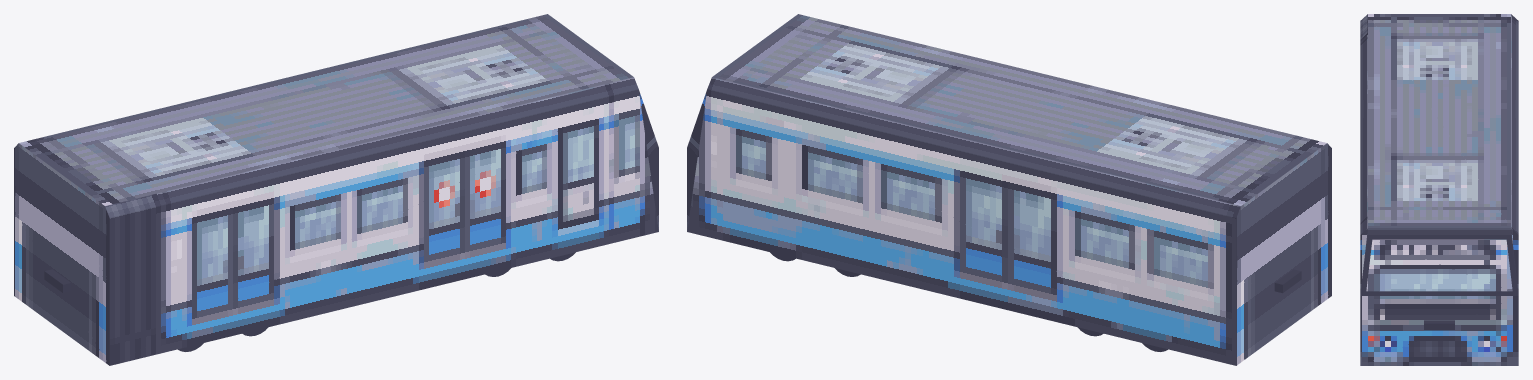
File: blue-rear-v1.glb
3 renders of one model, left to right at view 1: azimuth 30°, elevation 25°; view 2: azimuth 150°, elevation 25°; view 3: azimuth 270°, elevation 25°, orthographic. The views are drawn at different scales.
Parts seen in each view (by area): view 1: Skirt-west, Roof, Negative-end-lower, Roof-shoulder-west, Negative-end-upper, Positive-end-corner--1; view 2: Skirt-east, Roof, Negative-end-lower, Roof-shoulder-east, Negative-end-upper, Positive-end-corner-1; view 3: Roof, Positive-end-lower, Positive-end-windscreen-glass, Positive-end-windscreen-frame, Roof-shoulder-east, Roof-shoulder-west, Positive-end-roof, Coupler-head-positive, Positive-end-corner-1, Positive-end-corner--1.
Boxes of the visible parts, x1,y1,x2,y2 form: Skirt-west: (109,89,658,365); Roof: (19,14,633,205); Negative-end-lower: (14,211,109,365); Roof-shoulder-west: (105,77,638,217); Negative-end-upper: (14,143,109,280); Positive-end-corner--1: (638,89,658,231); Skirt-east: (687,89,1236,365); Roof: (712,14,1326,205); Negative-end-lower: (1236,211,1331,365); Roof-shoulder-east: (707,77,1240,217); Negative-end-upper: (1236,143,1331,280); Positive-end-corner-1: (687,89,707,231); Roof: (1368,14,1510,227); Positive-end-lower: (1360,296,1518,365); Positive-end-windscreen-glass: (1366,239,1512,291); Positive-end-windscreen-frame: (1360,235,1518,295); Roof-shoulder-east: (1511,14,1518,234); Roof-shoulder-west: (1360,14,1367,234); Positive-end-roof: (1368,228,1510,234); Coupler-head-positive: (1424,320,1454,330); Positive-end-corner-1: (1511,228,1518,292); Positive-end-corner--1: (1360,228,1367,292).
Size of the model in its own units: 140 by 40 by 41.
Materials: 1 (1 with a texture image).
